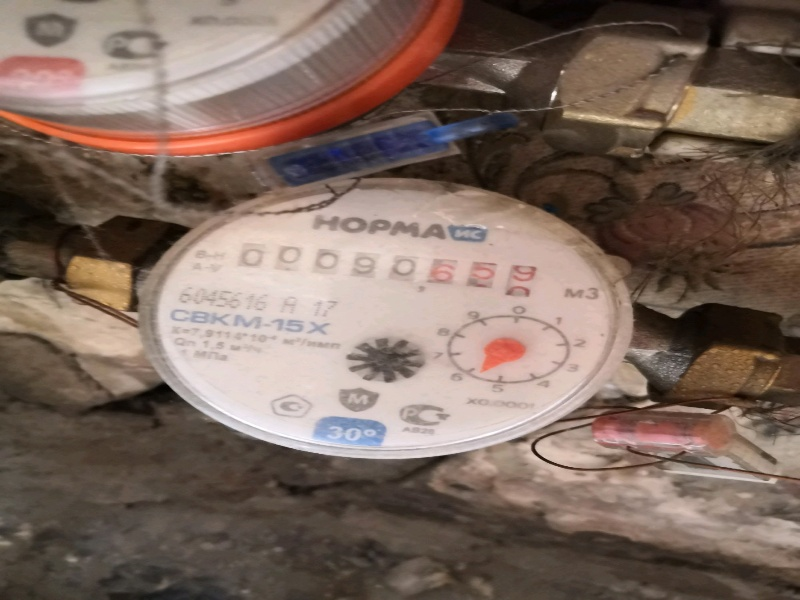meter: (240, 241, 534, 301)
